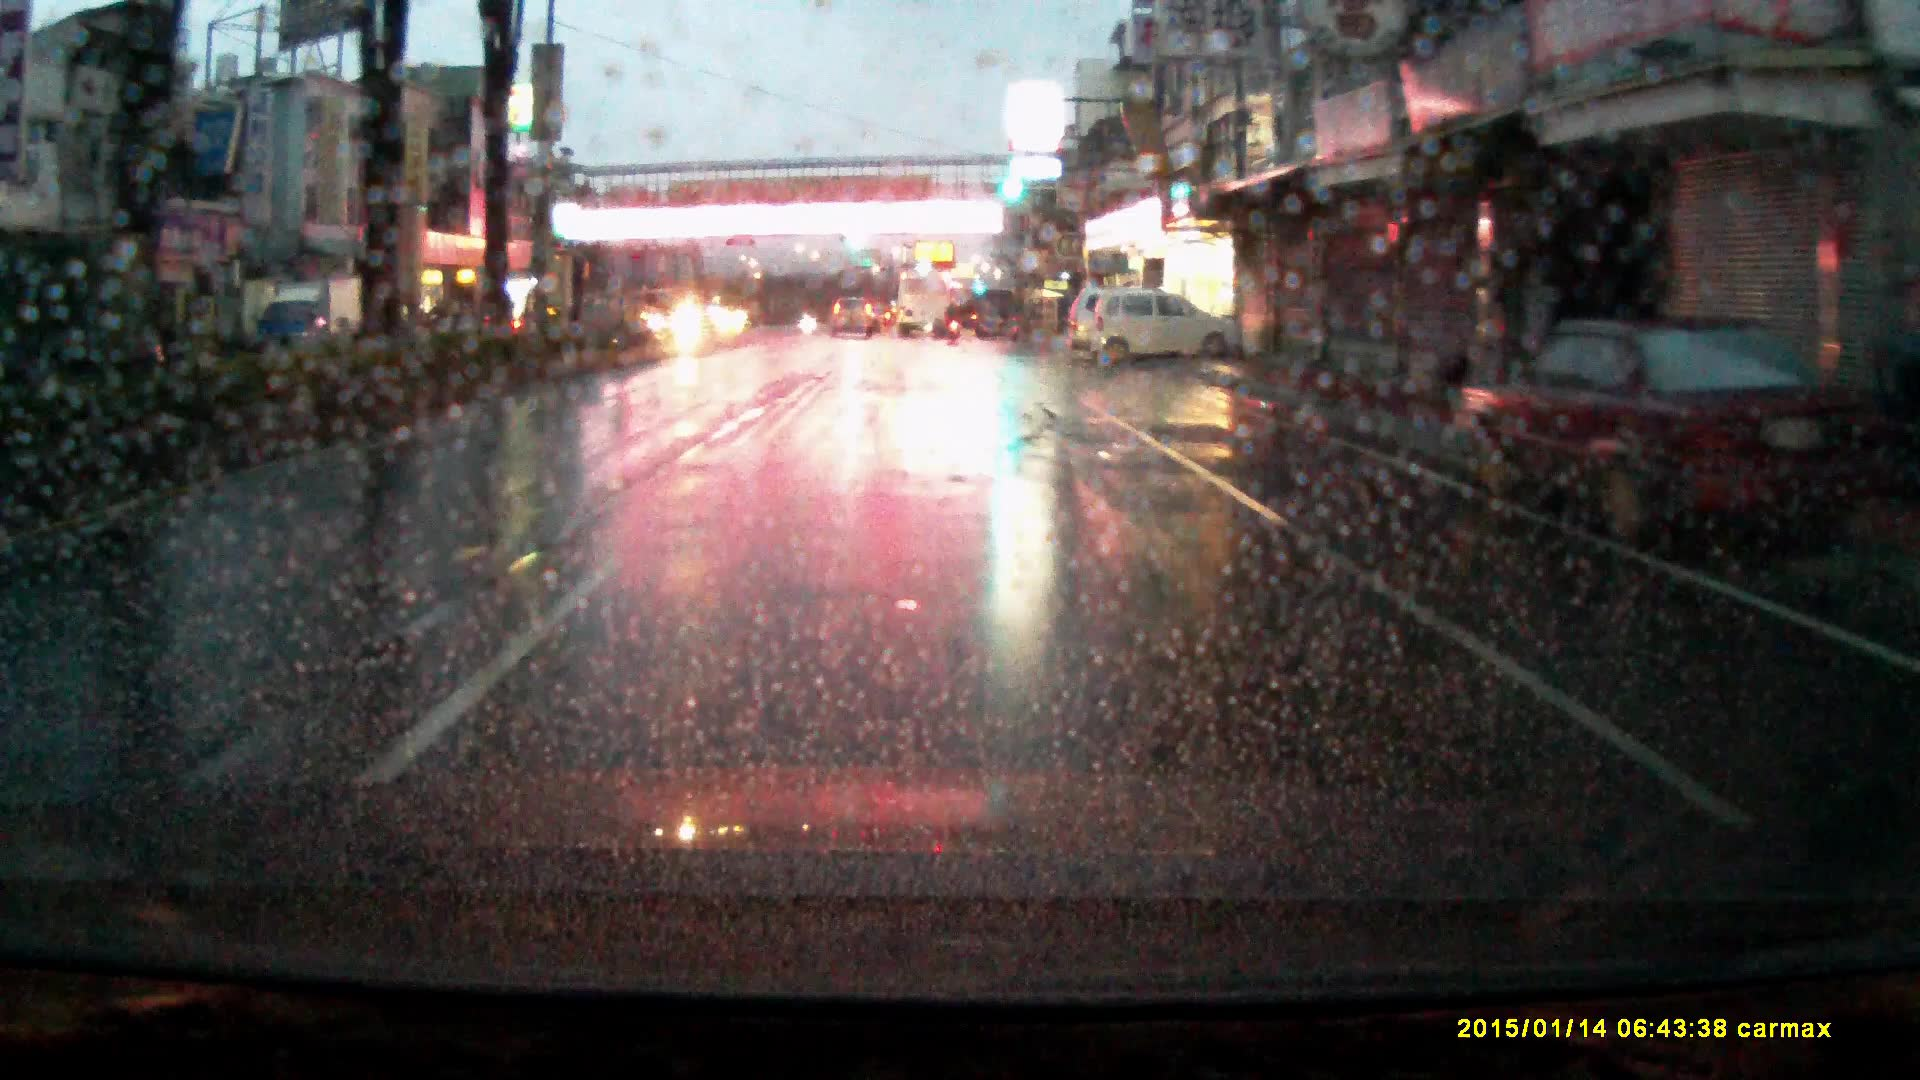rider: (943, 299, 963, 347)
vehicle: (1454, 319, 1882, 566), (1086, 293, 1246, 377), (260, 286, 359, 358), (1066, 292, 1141, 357), (898, 277, 950, 345), (831, 298, 877, 343)
